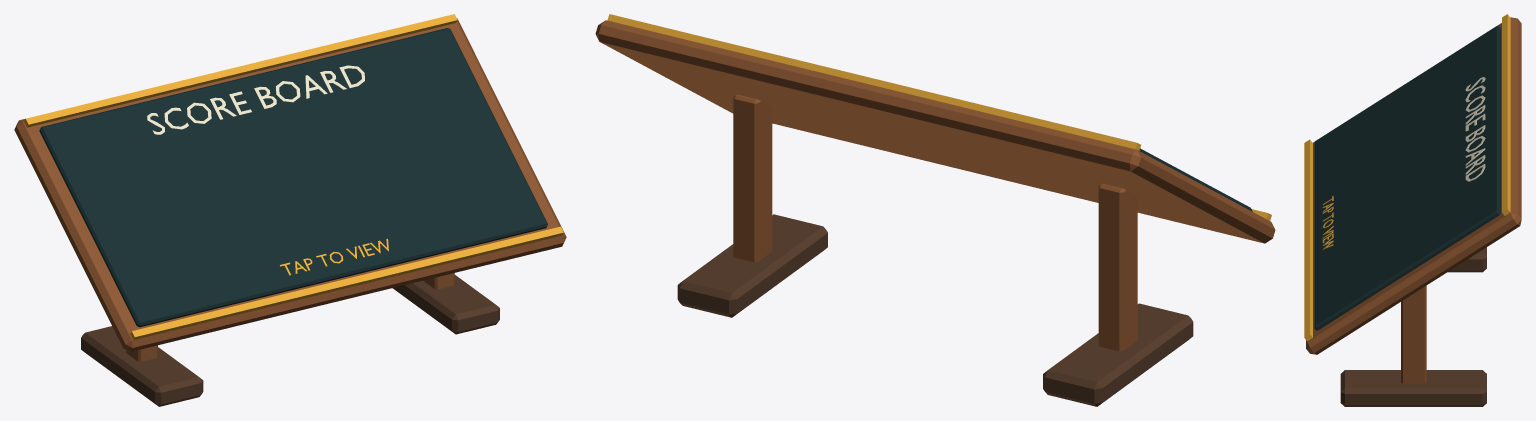
File: raft-scoreboard.glb
The picture shows the model from 3 angles, left to right: view 1: azimuth 30°, elevation 25°; view 2: azimuth 150°, elevation 25°; view 3: azimuth 270°, elevation 25°; orthographic projection. The views are drawn at different scales.
Visible parts, largest first — view 1: raft-scoreboard; view 2: raft-scoreboard; view 3: raft-scoreboard.
Part boxes in pixels (x1,y1,x2,y2): raft-scoreboard: (14,14,566,406); raft-scoreboard: (595,14,1275,406); raft-scoreboard: (1304,14,1521,406).
Size of the model in its own units: 5.5 by 2.81 by 2.52.
Materials: 1 (1 with a texture image).
